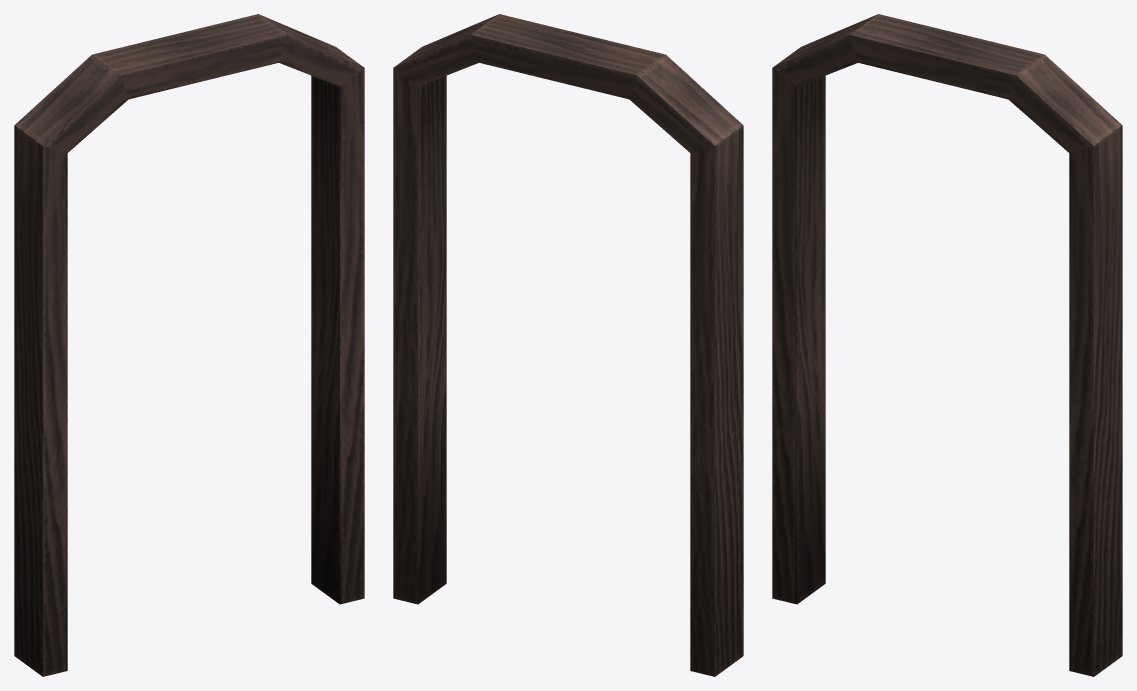
The model's file is Archway_3x3_Small.fbx.
The picture shows the model from 3 angles, left to right: view 1: azimuth 30°, elevation 25°; view 2: azimuth 150°, elevation 25°; view 3: azimuth 330°, elevation 25°; orthographic projection.
Visible parts, largest first — view 1: Archway_3x3_Small; view 2: Archway_3x3_Small; view 3: Archway_3x3_Small.
Part boxes in pixels (x1,y1,x2,y2): Archway_3x3_Small: (14, 14, 364, 676); Archway_3x3_Small: (393, 14, 743, 676); Archway_3x3_Small: (772, 14, 1122, 676).
Size of the model in its own units: 130 by 225 by 20.
